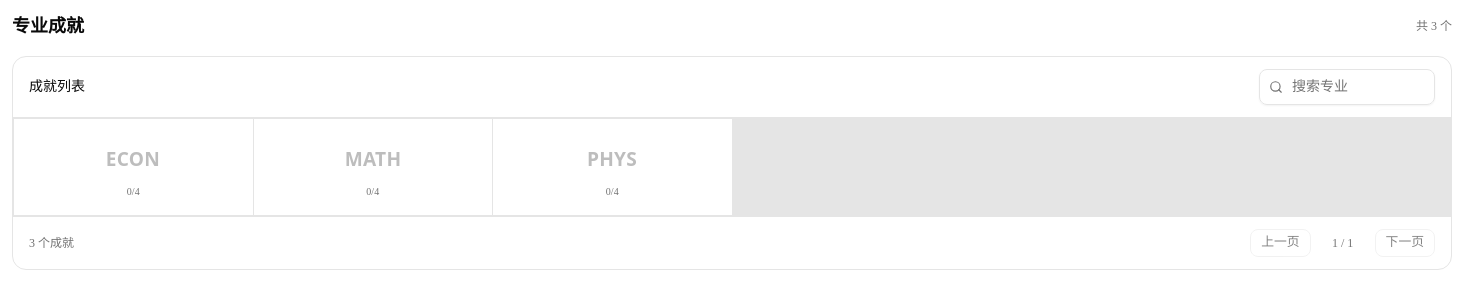
ProfessionalAchievementInventory › searches by professional code or display name
Type "经济" into the search field named "搜索专业成就".
click(1347, 87); type("经济")  # box x1=1259 y1=69 x2=1435 y2=105
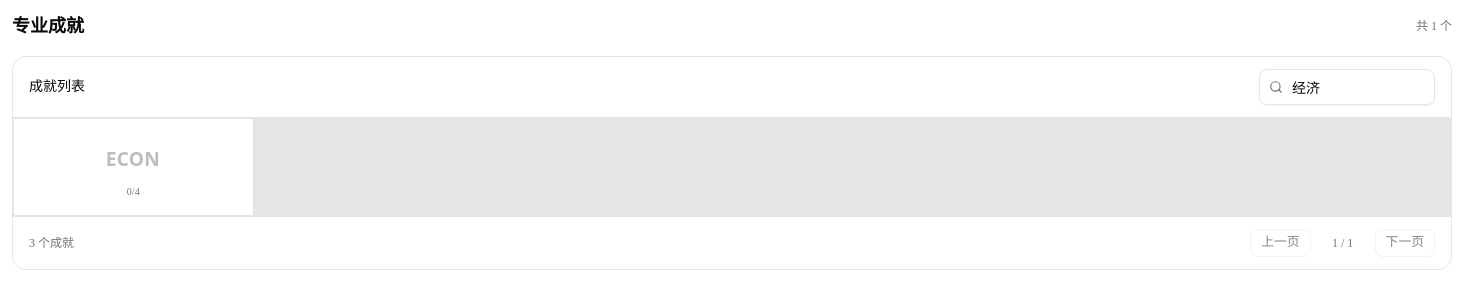
Expected: the button with aria-label "经济学" is shown, x1=14 y1=119 x2=252 y2=215
Replace the text in the search field named "搜索专业成就" with "math" at [1347, 87], box x1=1259 y1=69 x2=1435 y2=105
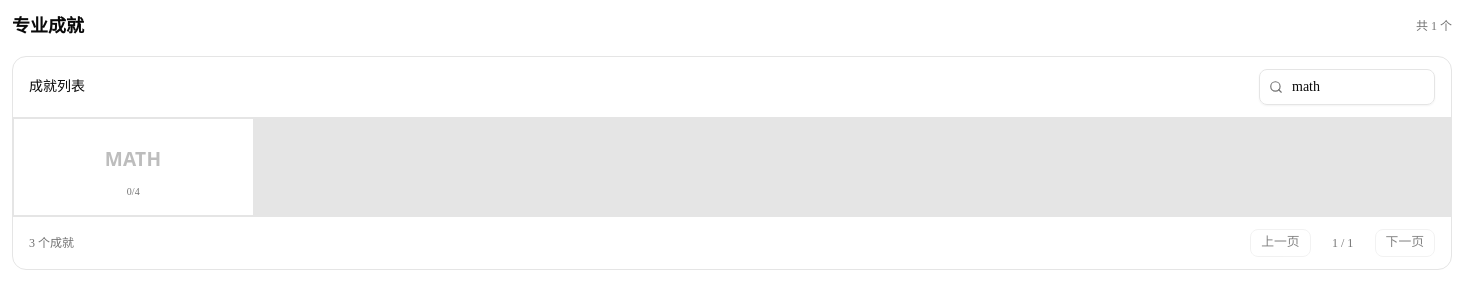
Expected: the button with aria-label "数学" is shown, x1=14 y1=119 x2=252 y2=215
